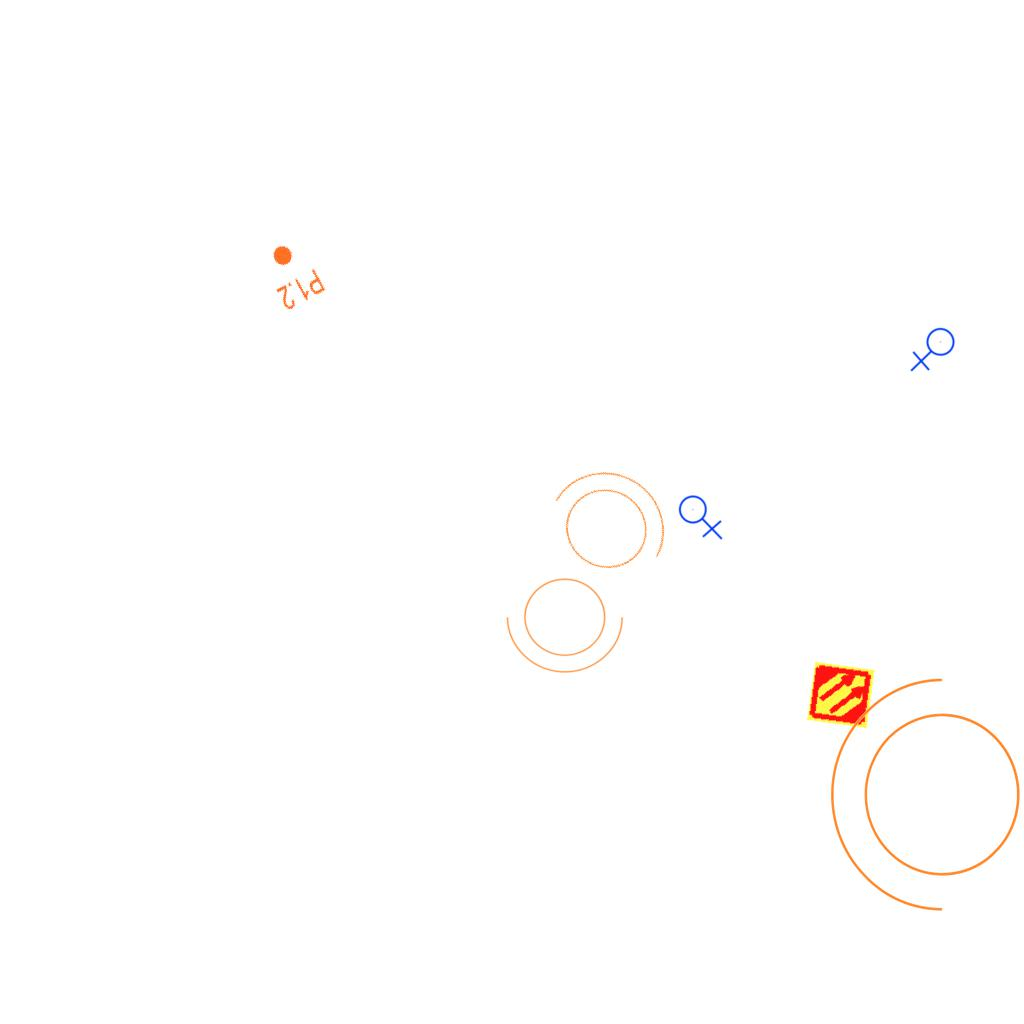ASR_Ansaugrauchmelder: (805, 659, 877, 731)
Downlight_LED_Einbauleuchten_Flur: (256, 234, 328, 314)
Elektroanschluss_allgemein_230V_Geraeteanschlussdose_230V: (910, 327, 959, 374), (678, 491, 725, 540)
Scheinwerfer_fuer_Alarmbeleuchtung: (820, 669, 1024, 933), (521, 442, 691, 604), (502, 566, 634, 678)
